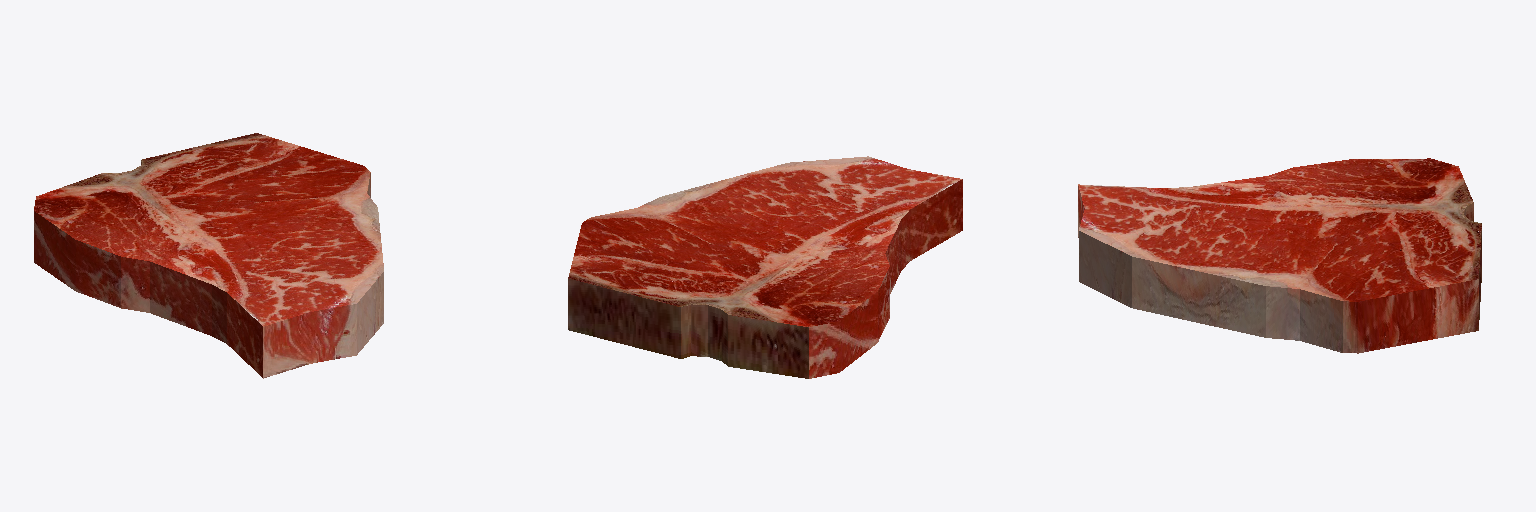
The picture shows the model from 3 angles: view 1: azimuth 30°, elevation 25°; view 2: azimuth 150°, elevation 25°; view 3: azimuth 270°, elevation 25°; orthographic projection.
Parts seen in each view (by area): view 1: skin; view 2: skin; view 3: skin.
Part boxes in pixels (bbox=[...]): skin: bbox=[34, 133, 383, 378]; skin: bbox=[568, 156, 962, 378]; skin: bbox=[1078, 158, 1481, 353].
Bounding box in the file's own units: 5.94 × 1 × 7.07.
Materials: 1 (1 with a texture image).